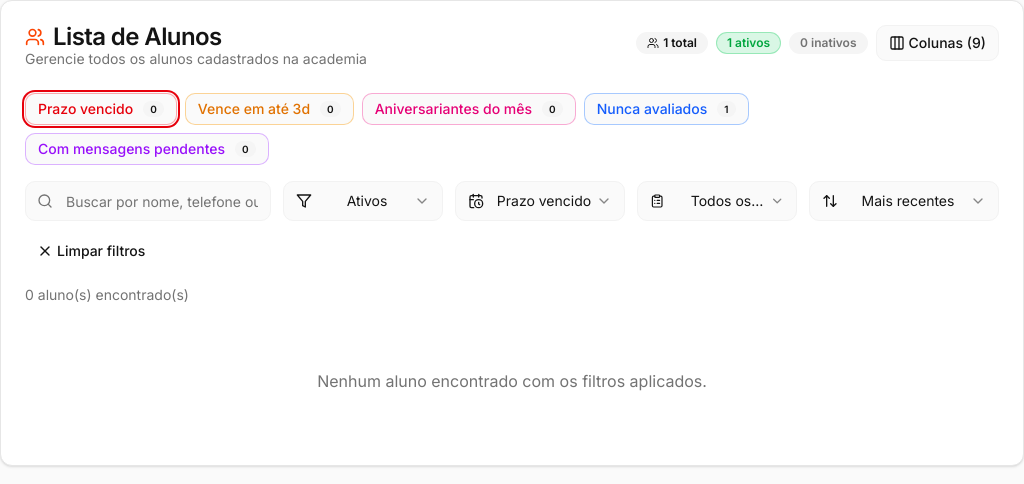
it: student list screen › applies the dashboard due-date filter instead of showing every student
Expected: the text "Nenhum aluno encontrado com os filtros aplicados." is shown, x1=317 y1=371 x2=707 y2=391
Click the button "Limpar filtros" at {"x": 91, "y": 251}, box x1=25 y1=233 x2=157 y2=269
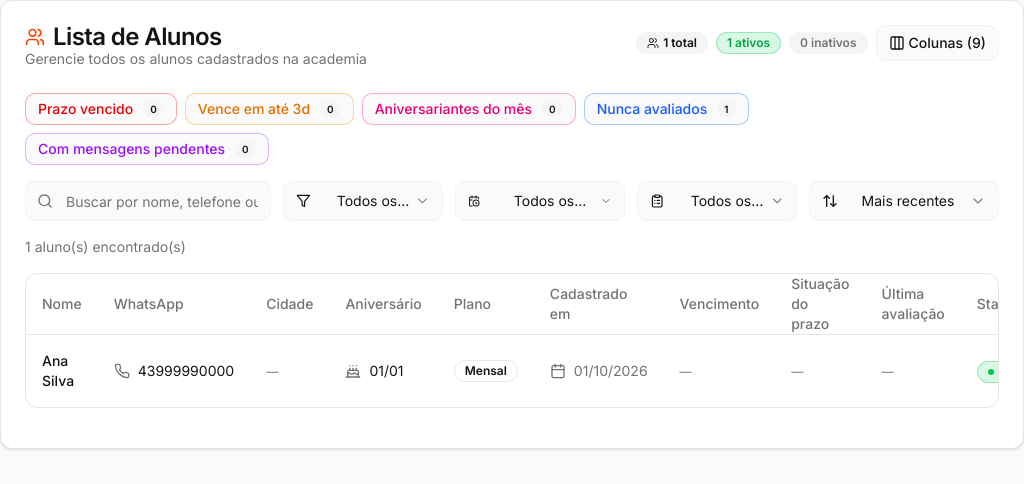
Expected: the text "Ana Silva" is shown 2 times
